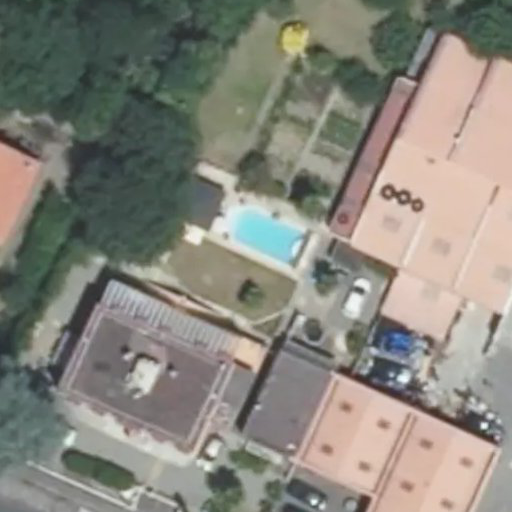pool: (202, 236, 302, 240)
